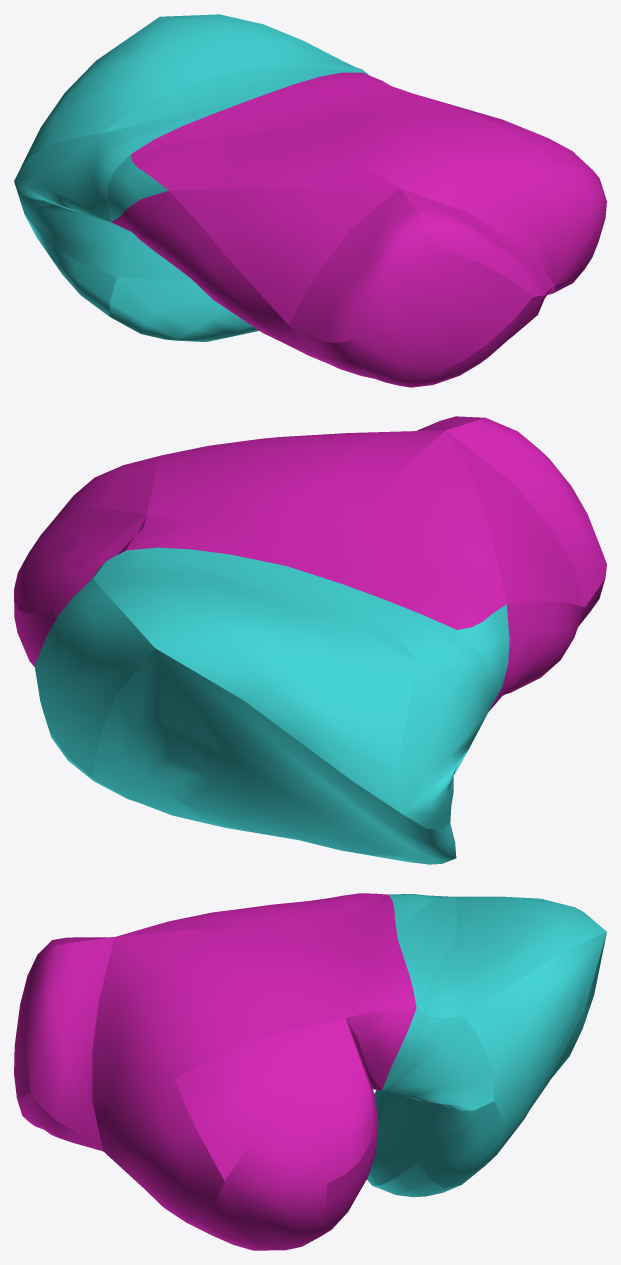
The model's file is fist_final.fbx.
The picture shows the model from 3 angles, top to bottom: view 1: azimuth 30°, elevation 25°; view 2: azimuth 150°, elevation 25°; view 3: azimuth 270°, elevation 25°; orthographic projection. The views are drawn at different scales.
Parts seen in each view (by area): view 1: polygon1; view 2: polygon1; view 3: polygon1.
Boxes of the visible parts, x1,y1,x2,y2 form: polygon1: (14,14,606,387); polygon1: (14,416,606,864); polygon1: (14,893,606,1250).
Size of the model in its own units: 204 by 107 by 226.
